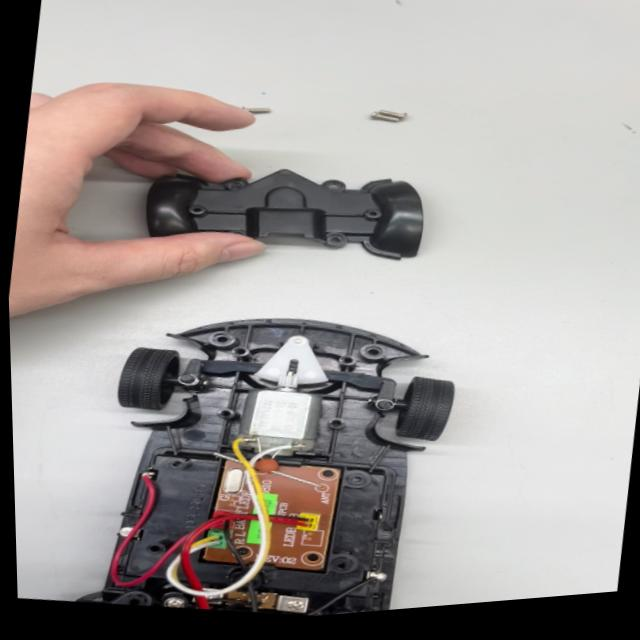Chassis: (72, 277, 481, 635)
motor: (227, 358, 331, 458)
motor_cover: (124, 141, 460, 282)
wheel: (384, 351, 481, 453), (99, 323, 187, 418)
